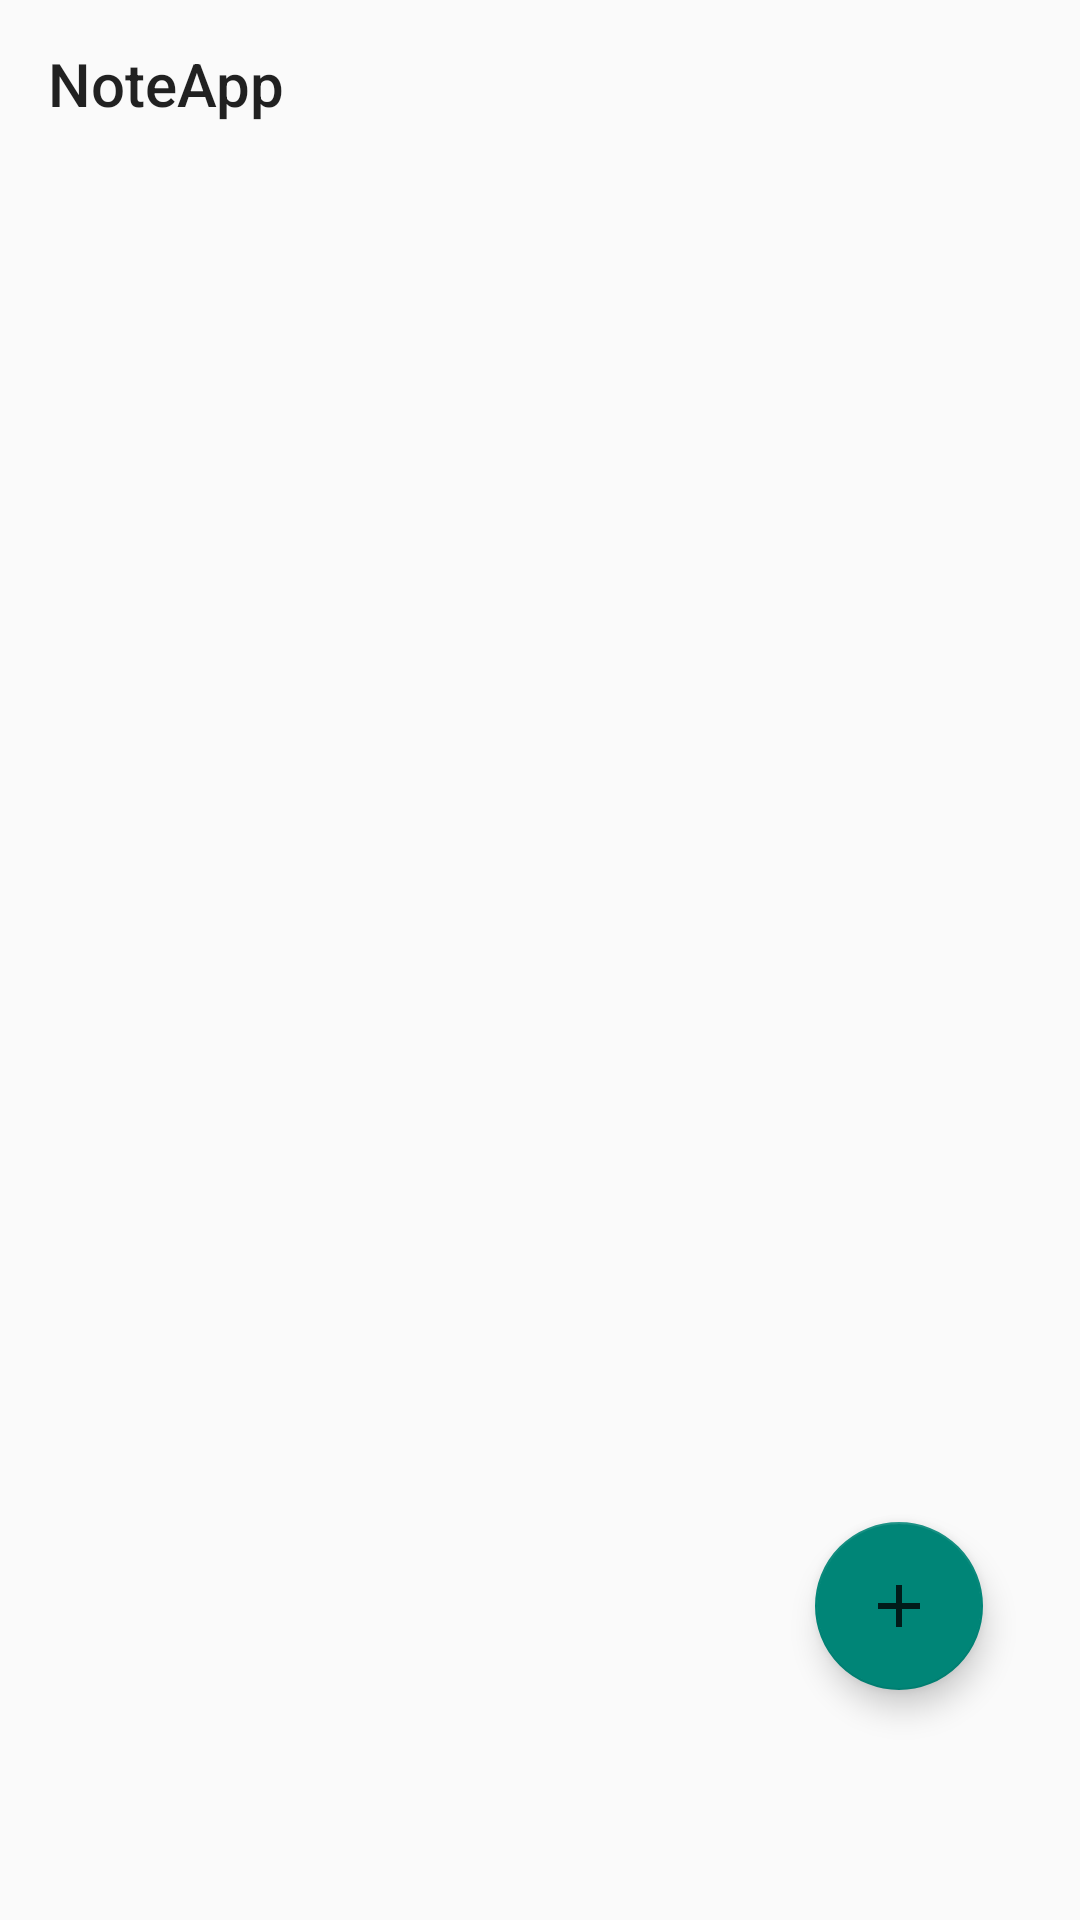

Point at icon controls on the screen. Image size 1080×1920, points as (x,y).
add: (899,1606)
